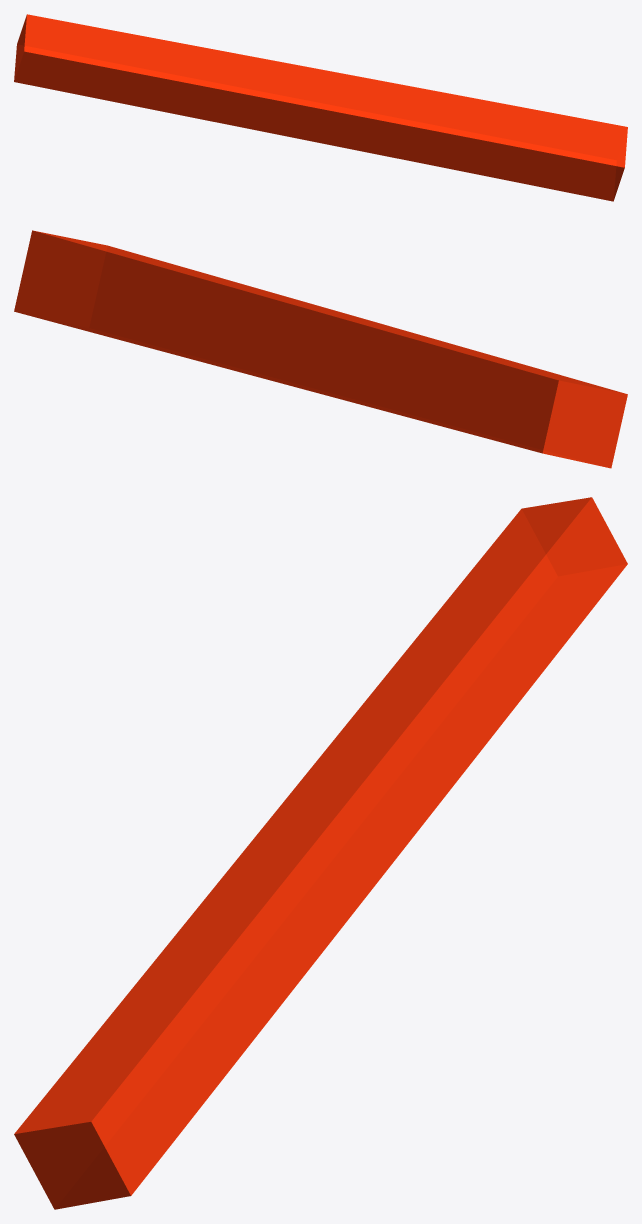
Rendered from Event_421278790_EBrechit_11.fbx.
3 renders of one model, top to bottom at view 1: azimuth 30°, elevation 25°; view 2: azimuth 150°, elevation 25°; view 3: azimuth 270°, elevation 25°, orthographic. The views are drawn at different scales.
Visible parts, largest first — view 1: Model; view 2: Model; view 3: Model.
Boxes of the visible parts, x1,y1,x2,y2 form: Model: [14, 14, 627, 201]; Model: [14, 230, 627, 468]; Model: [14, 497, 627, 1209].
Bounding box in the file's own units: 0.6757 × 0.2459 × 0.4141.
